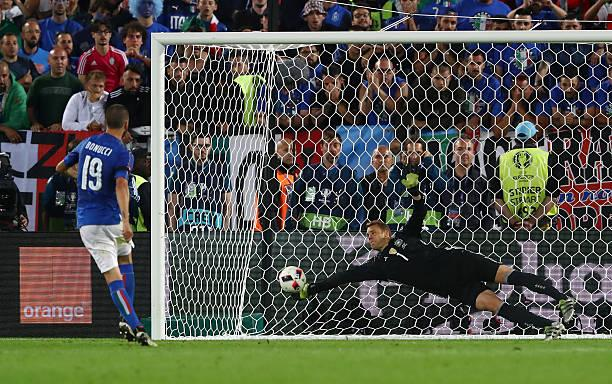Goalkeeper: (300, 156, 575, 336)
Player: (56, 104, 157, 346)
ball: (279, 267, 306, 292)
